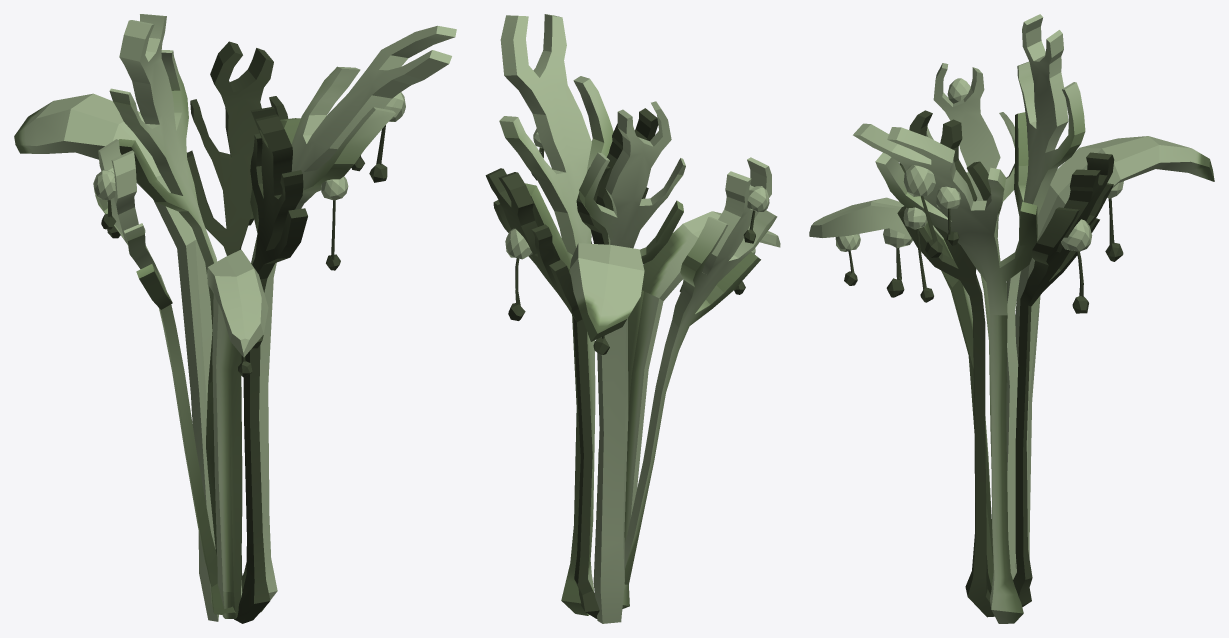
The model's file is EA_Swamp_LeafFruits_02a.glb.
3 renders of one model, left to right at view 1: azimuth 30°, elevation 25°; view 2: azimuth 150°, elevation 25°; view 3: azimuth 270°, elevation 25°, orthographic. The views are drawn at different scales.
Parts seen in each view (by area): view 1: EA_Swamp_LeafFruits_02a; view 2: EA_Swamp_LeafFruits_02a; view 3: EA_Swamp_LeafFruits_02a.
Part boxes in pixels (box(x1,y1,x2,y2)): EA_Swamp_LeafFruits_02a: box(14, 14, 456, 623); EA_Swamp_LeafFruits_02a: box(485, 14, 780, 623); EA_Swamp_LeafFruits_02a: box(809, 14, 1214, 623).
Size of the model in its own units: 2.45 by 4.3 by 2.82.
1 material, 1 textured.
